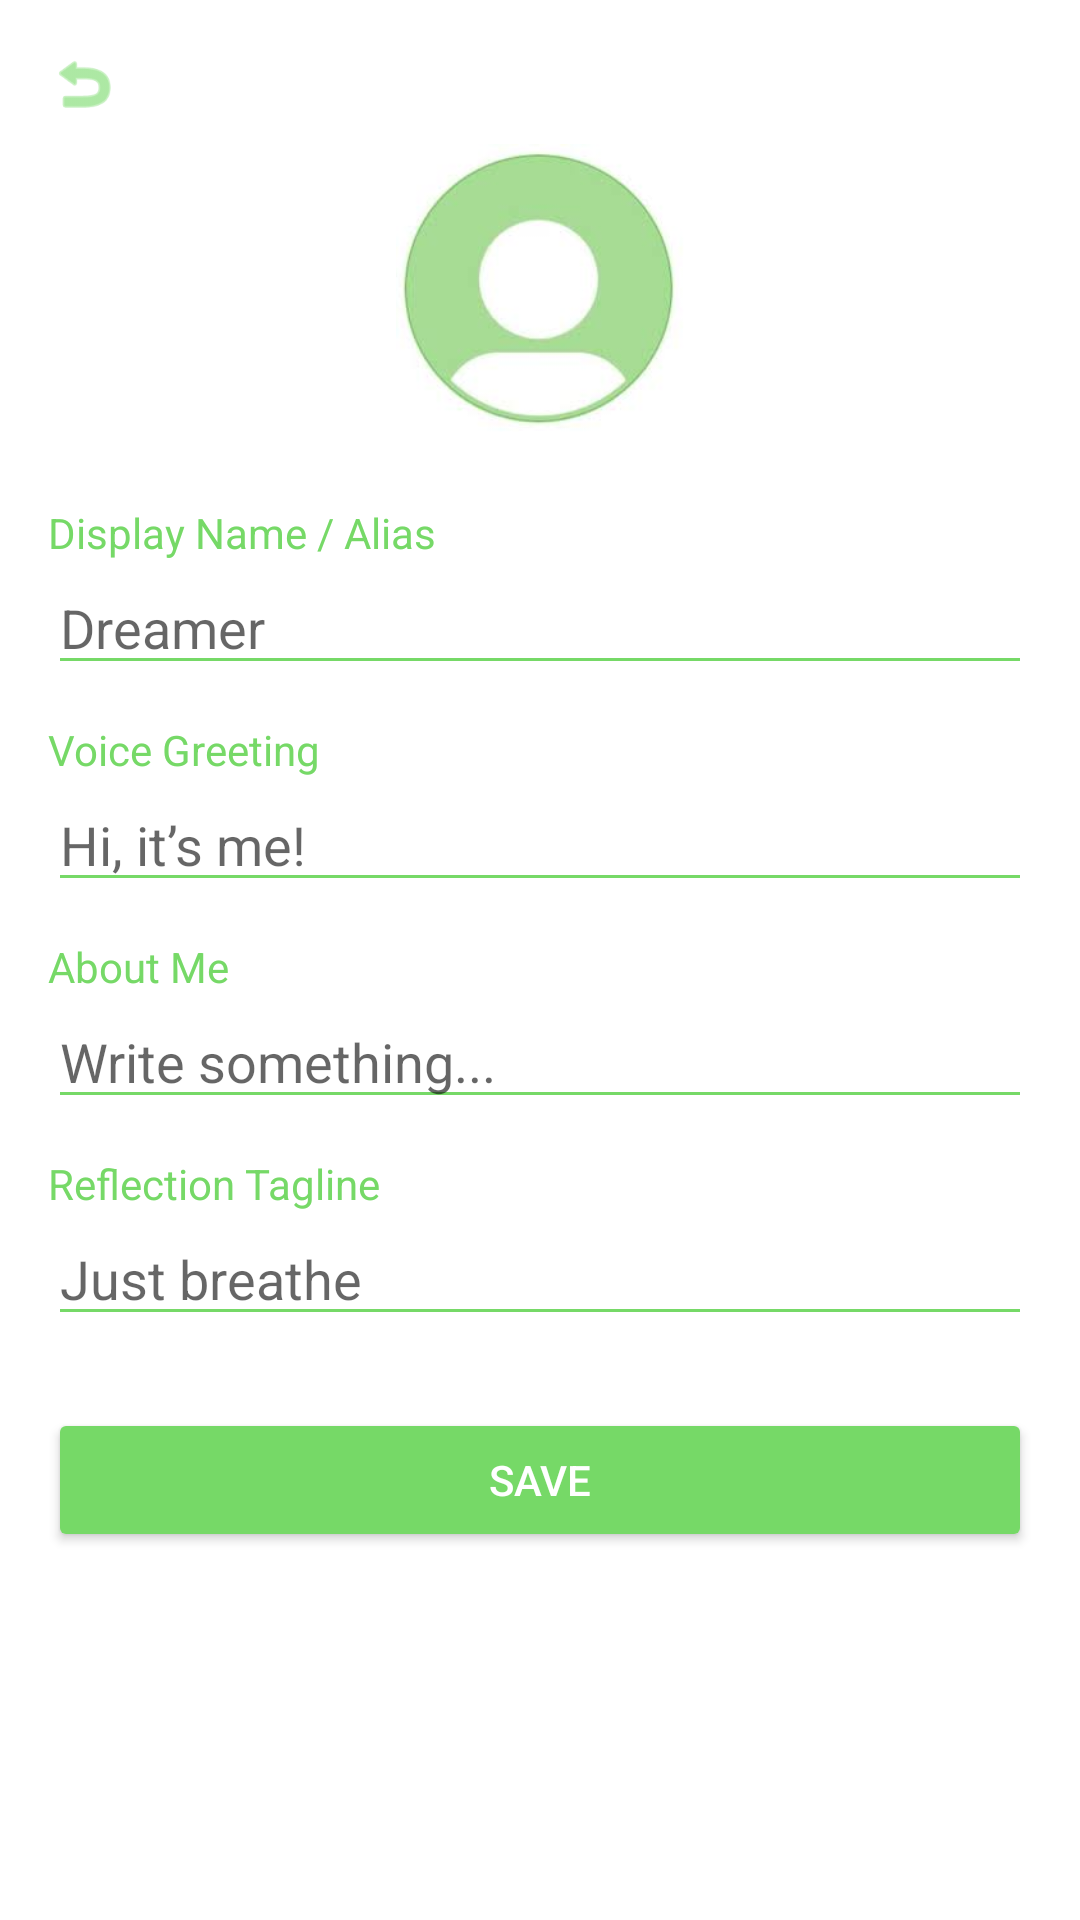

Screen size 1080 × 1920. Icon name, then its center in pixels as point (x, y):
Profile Icon: point (538, 288)
revert: point (85, 84)
